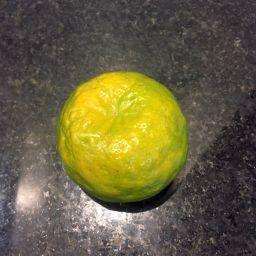orange: (57, 69, 190, 204)
